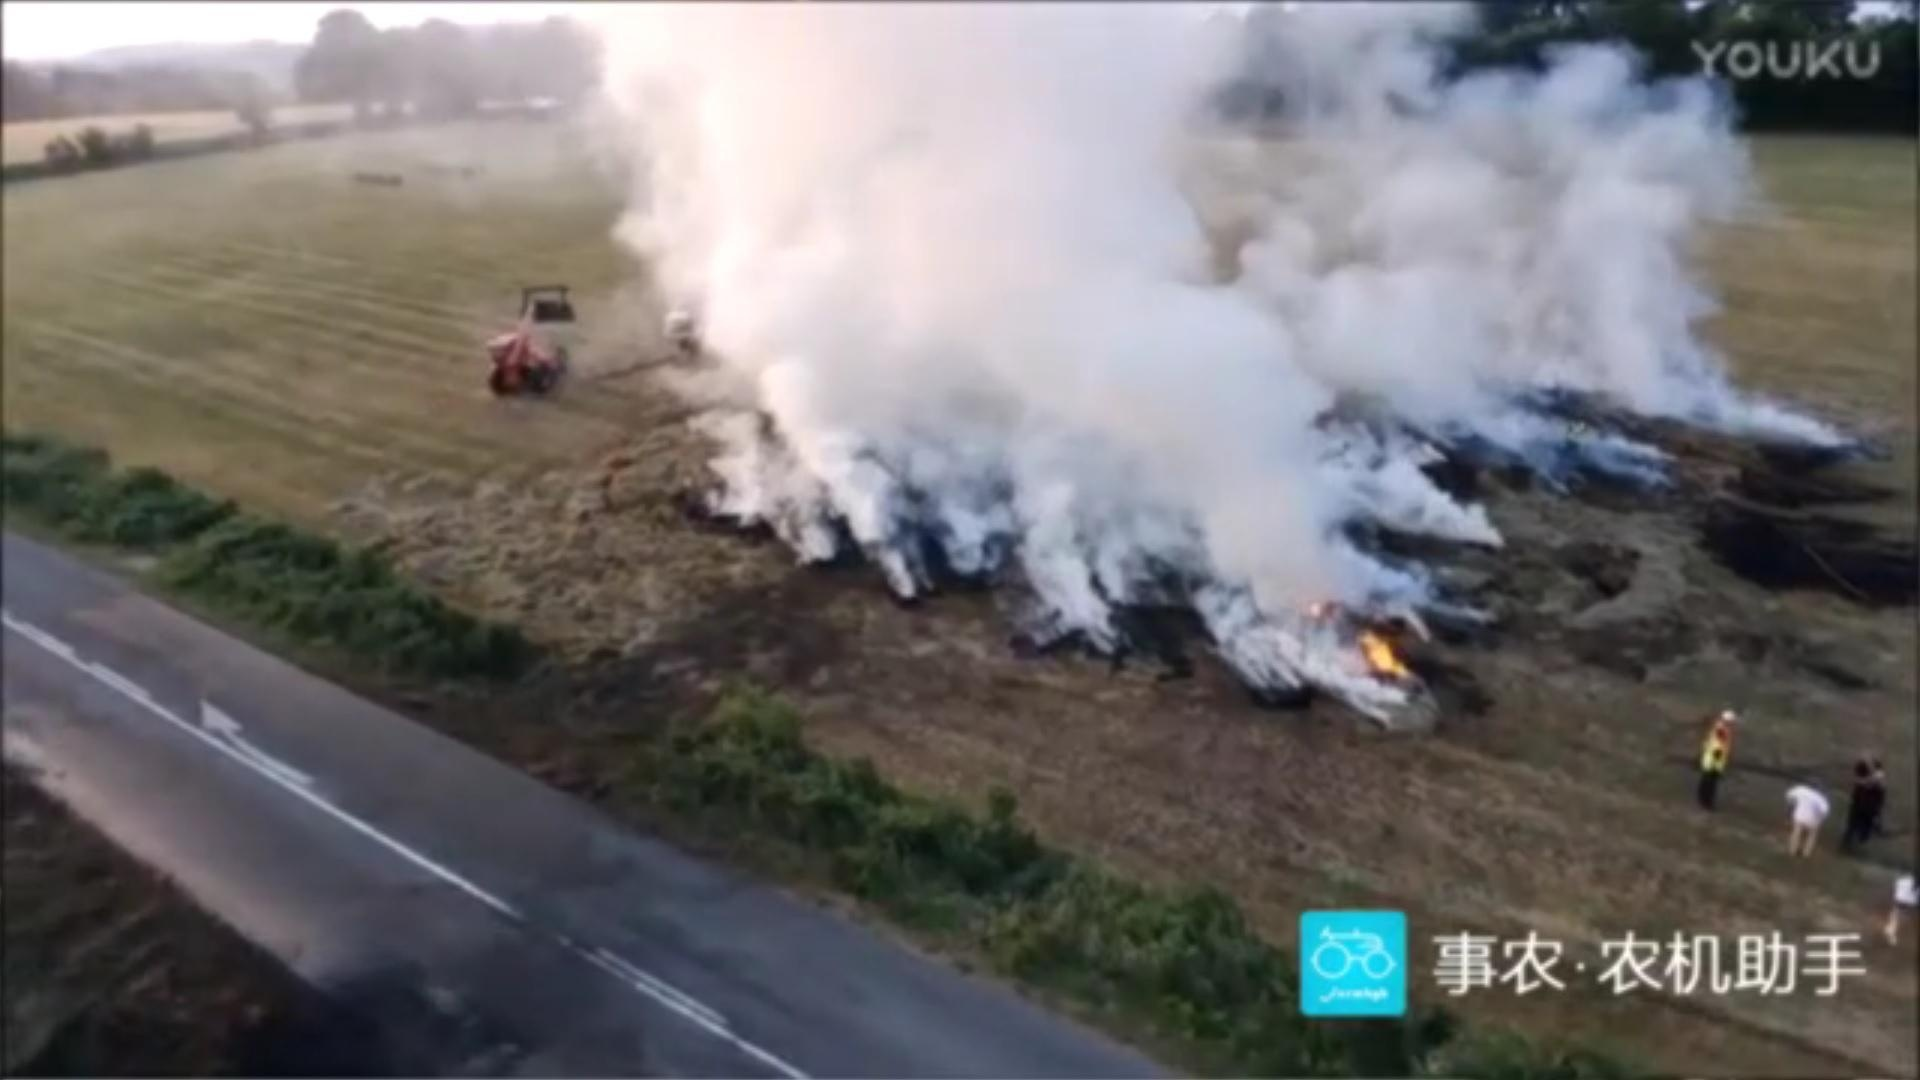fire: (1356, 620, 1414, 684)
